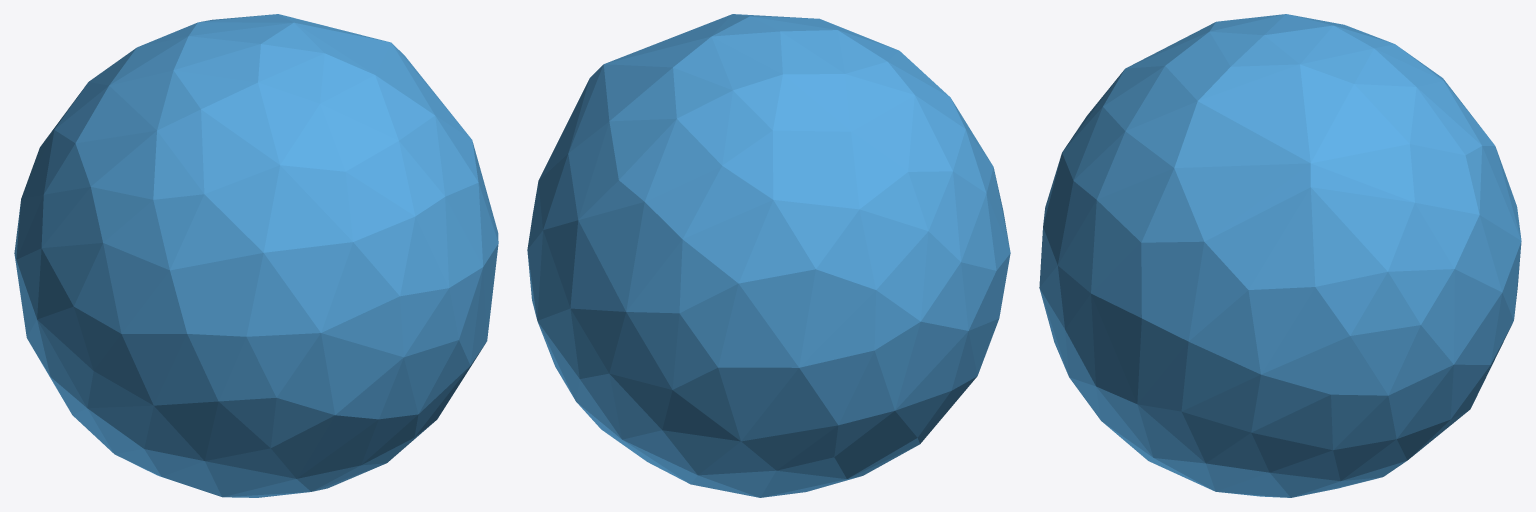
The model's file is kamino_simple.dae.
The picture shows the model from 3 angles, left to right: view 1: azimuth 30°, elevation 25°; view 2: azimuth 150°, elevation 25°; view 3: azimuth 270°, elevation 25°; orthographic projection.
Visible parts, largest first — view 1: Icosphere_000; view 2: Icosphere_000; view 3: Icosphere_000.
Boxes of the visible parts, bbox=[...] form: Icosphere_000: bbox=[14, 14, 498, 497]; Icosphere_000: bbox=[527, 14, 1010, 497]; Icosphere_000: bbox=[1039, 14, 1521, 497].
Size of the model in its own units: 6.04 by 5.99 by 6.03.
